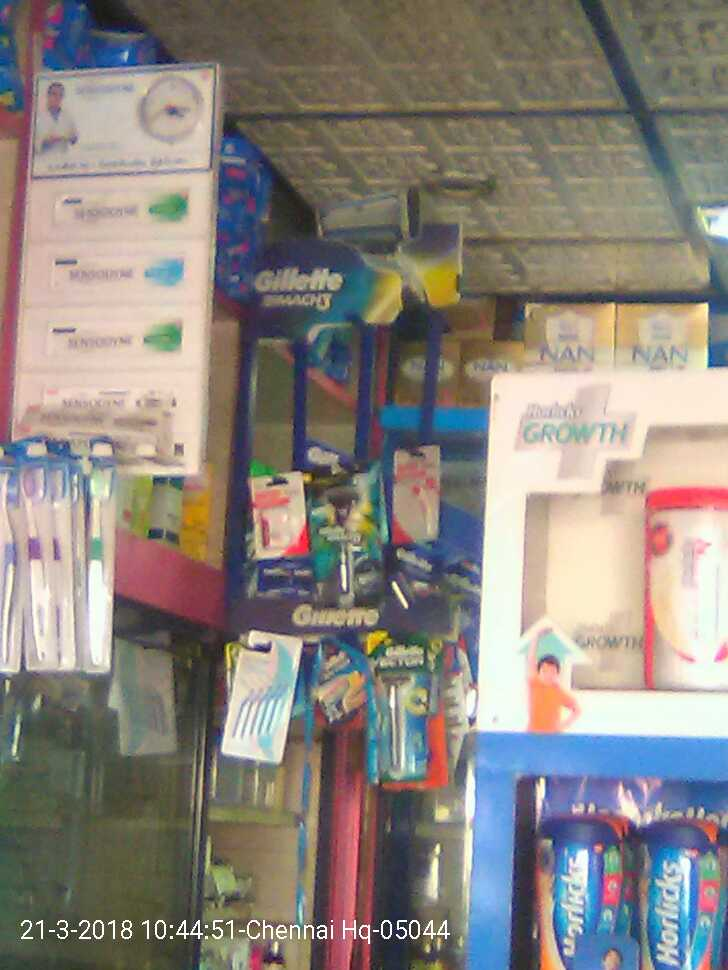gillette: (366, 621, 445, 783), (309, 490, 380, 606)
